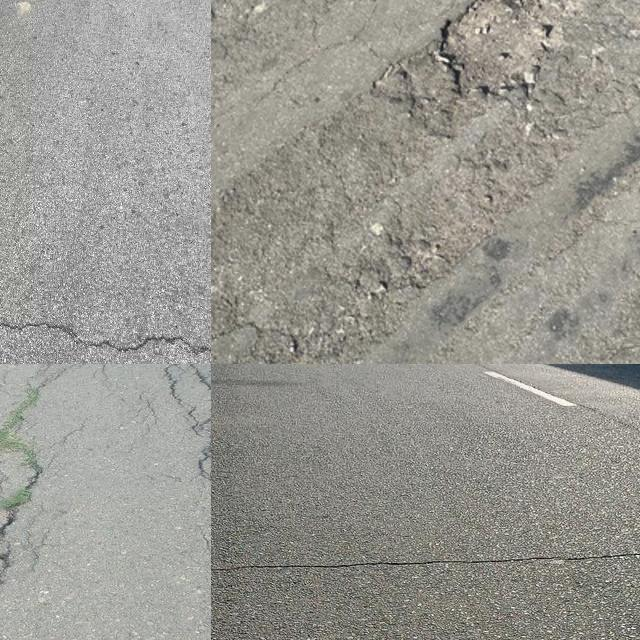Lubang: (440, 0, 570, 108)
Melintang: (211, 542, 640, 588), (0, 314, 211, 364)
Memanjang: (0, 462, 53, 635), (179, 364, 211, 540)
